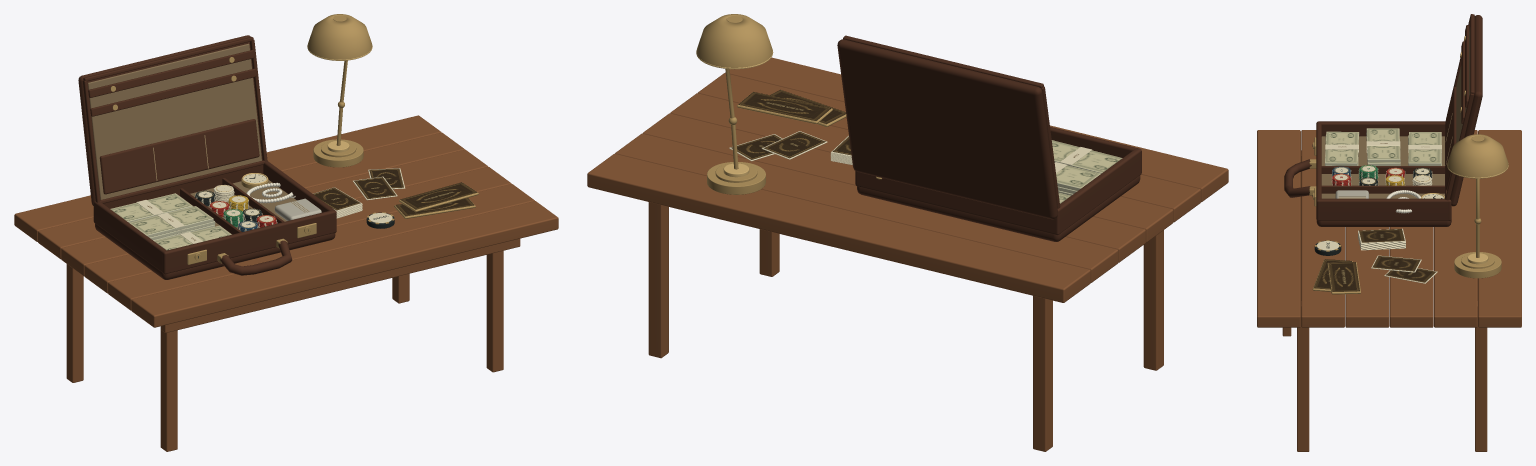
Rendered from stash.glb.
3 views of the same model, side by side, from view 1: azimuth 30°, elevation 25°; view 2: azimuth 150°, elevation 25°; view 3: azimuth 270°, elevation 25° (orthographic). The views are drawn at different scales.
Visible parts, largest first — view 1: Desk, CaseLidMesh, CaseBody, Cards, Lamp, Cash, Chips, Valuables; view 2: Desk, CaseLidMesh, CaseBody, Lamp, Cards, Cash; view 3: Desk, CaseBody, CaseLidMesh, Cards, Cash, Lamp, Chips, Valuables.
Part boxes in pixels (box(x1,y1,x2,y2)): Desk: box(14, 115, 558, 451); CaseLidMesh: box(78, 35, 267, 205); CaseBody: box(93, 161, 336, 279); Cards: box(313, 168, 478, 228); Lamp: box(307, 14, 372, 167); Cash: box(110, 193, 231, 250); Chips: box(195, 185, 277, 231); Valuables: box(241, 173, 321, 220); Desk: box(587, 57, 1228, 451); CaseLidMesh: box(837, 35, 1060, 219); CaseBody: box(855, 127, 1141, 241); Lamp: box(696, 14, 773, 194); Cards: box(729, 89, 852, 164); Cash: box(1051, 140, 1122, 203); Desk: box(1257, 130, 1521, 451); CaseBody: box(1284, 121, 1451, 226); CaseLidMesh: box(1445, 14, 1482, 206); Cards: box(1312, 228, 1437, 294); Cash: box(1325, 128, 1441, 165); Lamp: box(1447, 134, 1508, 278); Chips: box(1331, 165, 1432, 185); Valuables: box(1335, 190, 1444, 213).
Bounding box in the file's own units: 2.13 × 1.53 × 1.28.
19 materials, 3 textured.
